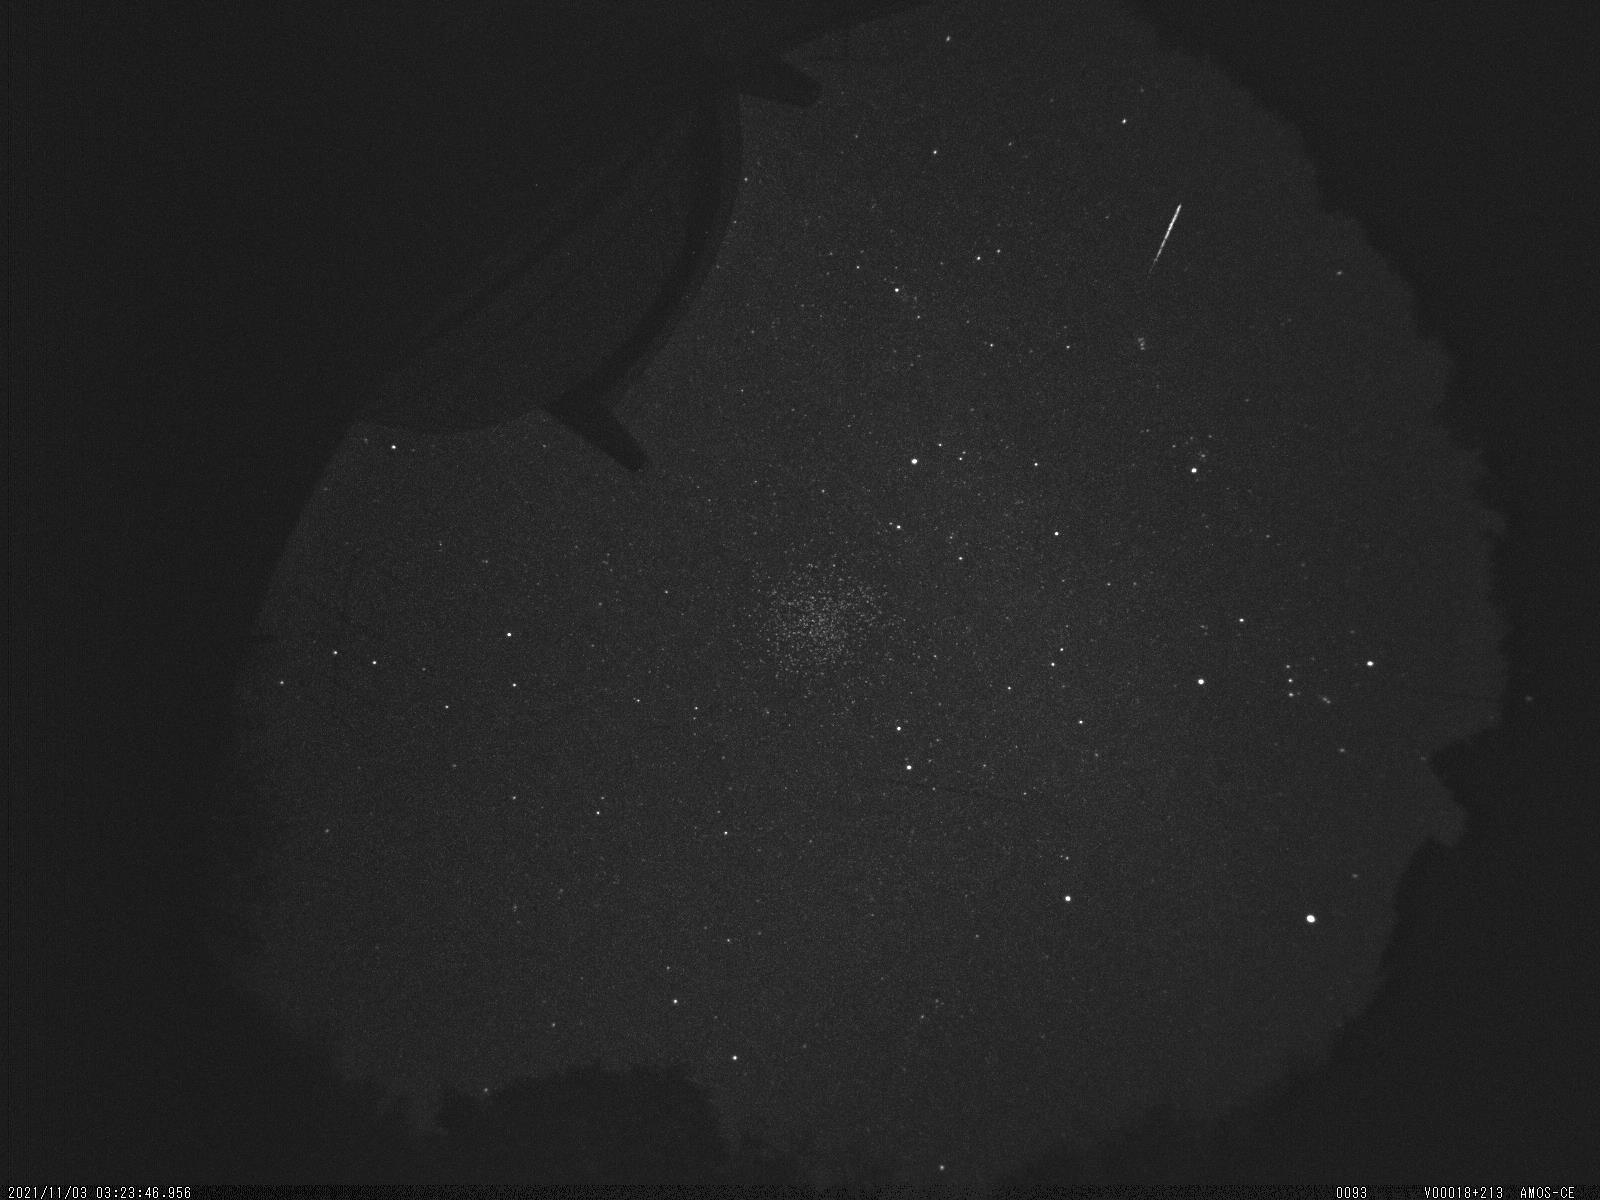Meteor: (1138, 190, 1192, 287)
